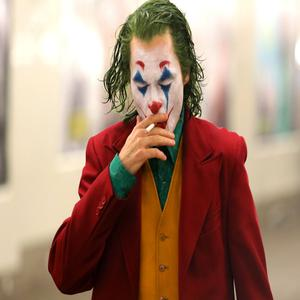cigarette: (144, 121, 156, 135)
